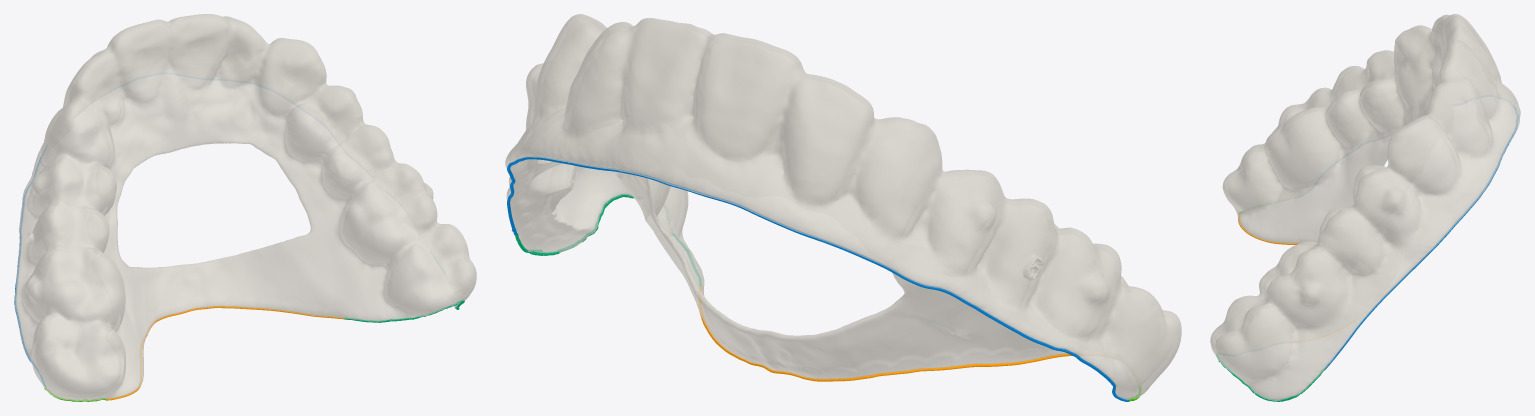
The model's file is connector-path-candidates.glb.
3 renders of one model, left to right at view 1: azimuth 30°, elevation 25°; view 2: azimuth 150°, elevation 25°; view 3: azimuth 270°, elevation 25°, orthographic. The views are drawn at different scales.
Parts seen in each view (by area): view 1: Neutral reference aligner, ORANGE: smaller open partial sharp edge candidate; view 2: Neutral reference aligner, BLUE: large open full-arch sharp edge candidate, ORANGE: smaller open partial sharp edge candidate, GREEN 2: 20-degree shortest sharp-network connector candidat; view 3: Neutral reference aligner, BLUE: large open full-arch sharp edge candidate, GREEN 2: 20-degree shortest sharp-network connector candidat.
Boxes of the visible parts, x1,y1,x2,y2 form: Neutral reference aligner: [14, 14, 476, 401]; ORANGE: smaller open partial sharp edge candidate: [106, 306, 346, 400]; Neutral reference aligner: [505, 14, 1181, 399]; BLUE: large open full-arch sharp edge candidate: [507, 156, 1129, 401]; ORANGE: smaller open partial sharp edge candidate: [699, 286, 1072, 381]; GREEN 2: 20-degree shortest sharp-network connector candidat: [515, 194, 701, 285]; Neutral reference aligner: [1210, 14, 1520, 400]; BLUE: large open full-arch sharp edge candidate: [1324, 106, 1518, 369]; GREEN 2: 20-degree shortest sharp-network connector candidat: [1216, 354, 1324, 401].
Bounding box in the file's own units: 67.79 × 40.7 × 42.41.
